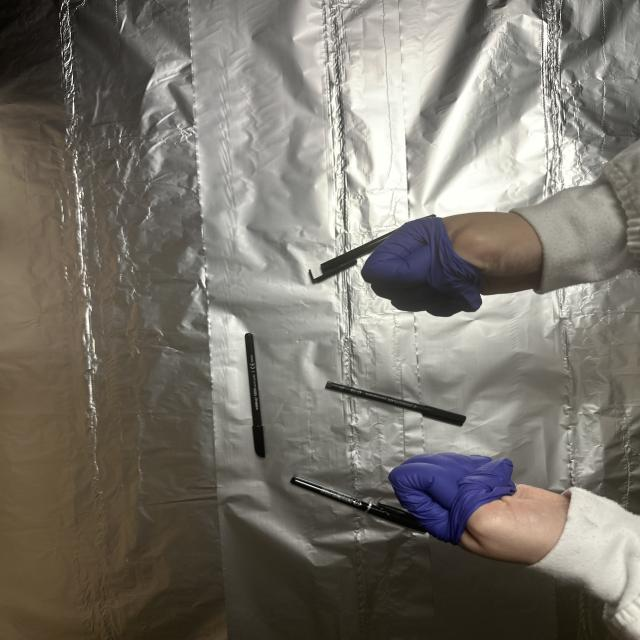glove_partial: (388, 448, 570, 567), (361, 210, 552, 318)
